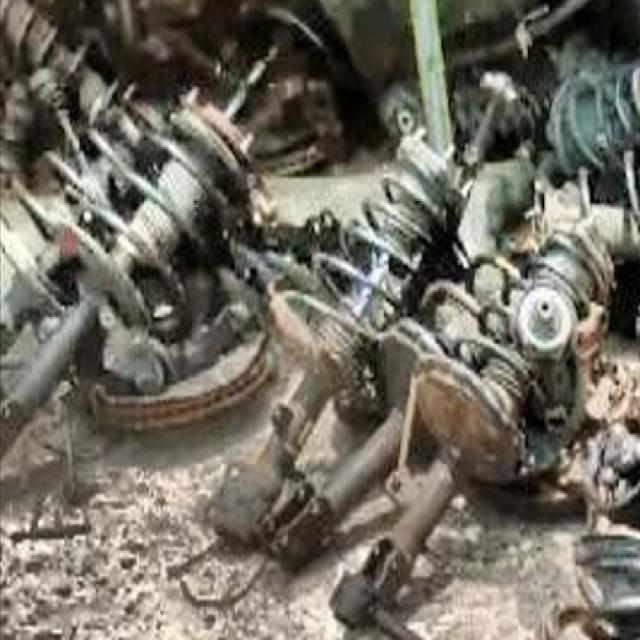shock absorber: (193, 120, 469, 549), (1, 44, 278, 461)
